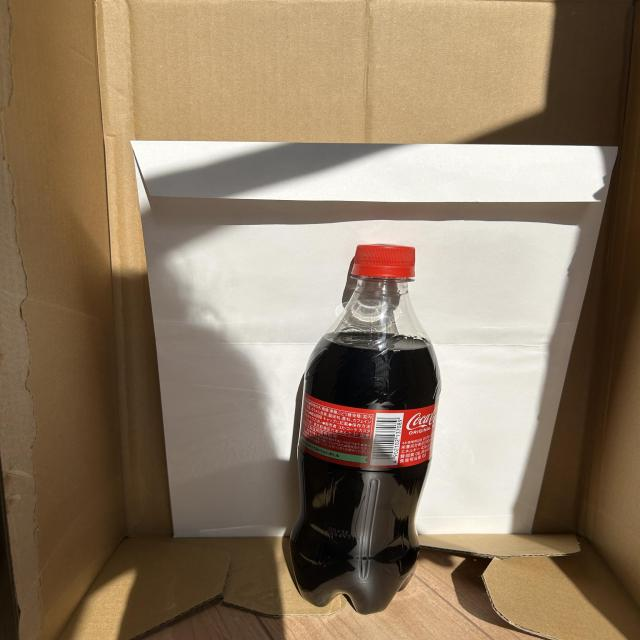high: (290, 244, 440, 614)
